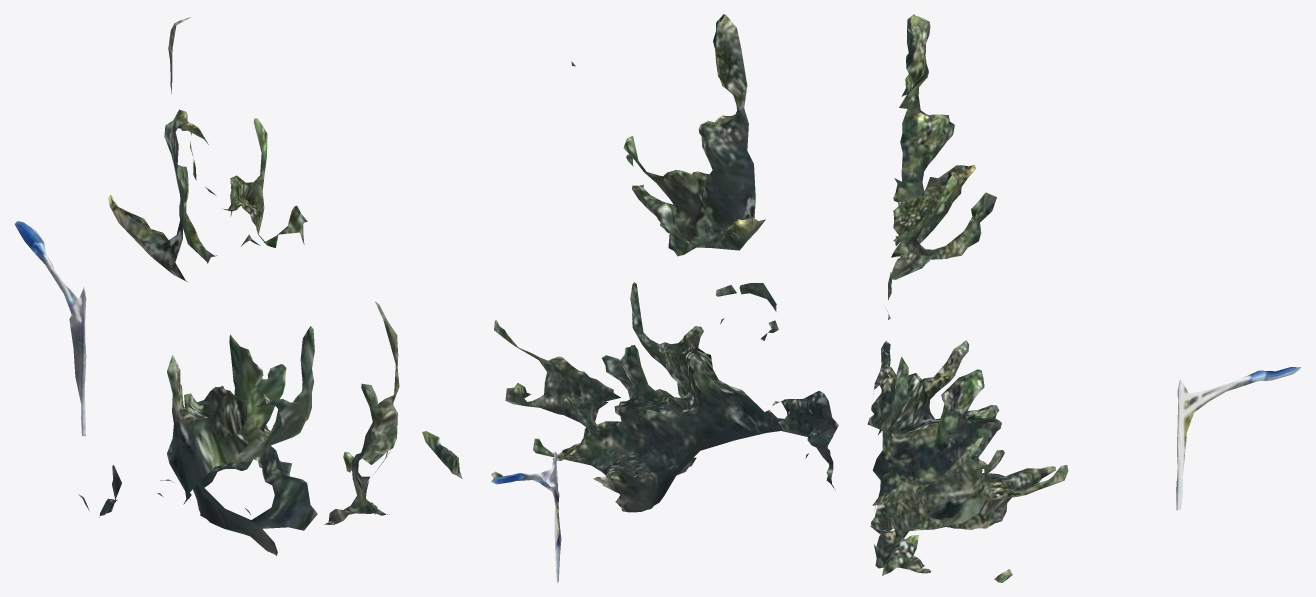
File: Tile_+006_+007_L22_0002200.glb
3 views of the same model, side by side, from view 1: azimuth 30°, elevation 25°; view 2: azimuth 150°, elevation 25°; view 3: azimuth 270°, elevation 25° (orthographic). The views are drawn at different scales.
Visible parts, largest first — view 1: rtc; view 2: rtc; view 3: rtc.
Part boxes in pixels (x1=…): rtc: x1=14, y1=17, x2=462, y2=555; rtc: x1=491, y1=14, x2=838, y2=582; rtc: x1=867, y1=14, x2=1301, y2=582.
Bounding box in the file's own units: 6.61 × 9.52 × 7.83.
1 material, 1 textured.
